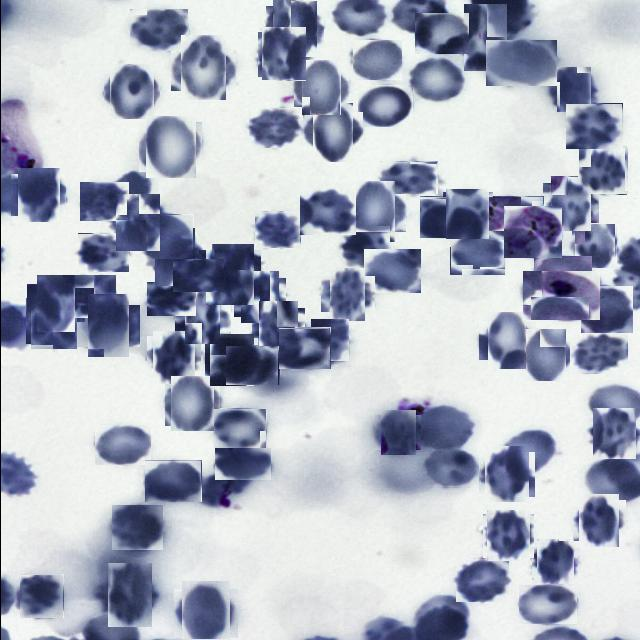red blood cell: (485, 40, 556, 86), (142, 118, 198, 176), (174, 40, 230, 96), (177, 585, 234, 640), (497, 427, 559, 477), (457, 10, 512, 66), (410, 403, 474, 451), (202, 246, 256, 302), (101, 568, 156, 622), (81, 300, 134, 352), (481, 196, 543, 240), (134, 214, 193, 259), (268, 2, 319, 54), (299, 188, 355, 235), (565, 103, 622, 149), (350, 186, 400, 238), (112, 196, 162, 248), (449, 229, 505, 275), (129, 8, 188, 51), (363, 249, 420, 293), (307, 107, 357, 157), (106, 66, 156, 116), (166, 379, 216, 429), (481, 450, 531, 500), (28, 296, 78, 346), (149, 232, 199, 282), (569, 331, 627, 374), (258, 30, 308, 79), (580, 286, 632, 333), (61, 274, 116, 318), (14, 170, 62, 220), (144, 460, 201, 502), (111, 504, 163, 550), (455, 558, 509, 602), (518, 584, 577, 624), (357, 85, 412, 127), (419, 196, 474, 238), (414, 12, 469, 54), (149, 333, 197, 381), (484, 512, 532, 560), (578, 146, 626, 194), (482, 316, 530, 364), (546, 179, 594, 227), (590, 410, 638, 458), (31, 279, 79, 327), (408, 60, 465, 100), (297, 64, 344, 112), (520, 331, 568, 378), (254, 304, 301, 352), (207, 336, 254, 384), (444, 190, 491, 238), (94, 425, 150, 465), (575, 497, 622, 544), (533, 256, 591, 294), (424, 448, 479, 488), (278, 328, 330, 370), (224, 345, 278, 385), (213, 408, 266, 448), (236, 274, 282, 320), (178, 293, 224, 339), (248, 108, 300, 148), (324, 272, 370, 317), (340, 226, 389, 268), (77, 233, 129, 272), (350, 40, 400, 80), (19, 574, 63, 618), (378, 161, 436, 194), (79, 182, 128, 221), (572, 225, 615, 267), (214, 448, 270, 480), (172, 258, 224, 292), (533, 540, 575, 582), (254, 211, 300, 248), (146, 282, 195, 316), (553, 69, 593, 109), (377, 412, 417, 452), (310, 319, 348, 361)
trophozoite: (522, 270, 600, 320), (503, 206, 561, 258)
